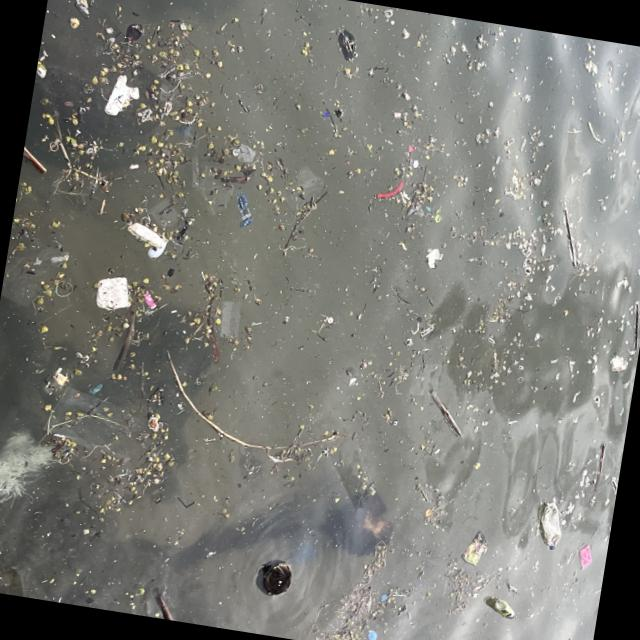foam: (102, 72, 142, 119), (124, 220, 166, 248), (232, 195, 255, 228)
plastic: (536, 500, 565, 550), (492, 599, 516, 620)
plastic bottle: (43, 382, 144, 462), (0, 244, 69, 313), (0, 427, 55, 508), (185, 152, 237, 218), (91, 272, 132, 312), (459, 528, 490, 568), (214, 298, 244, 338), (147, 198, 180, 232), (147, 235, 170, 261), (576, 544, 594, 570), (424, 248, 444, 270), (236, 144, 256, 164), (172, 123, 195, 140), (608, 356, 628, 372), (72, 0, 91, 15), (142, 292, 156, 310)
unknow: (376, 178, 404, 202), (336, 29, 356, 62)
